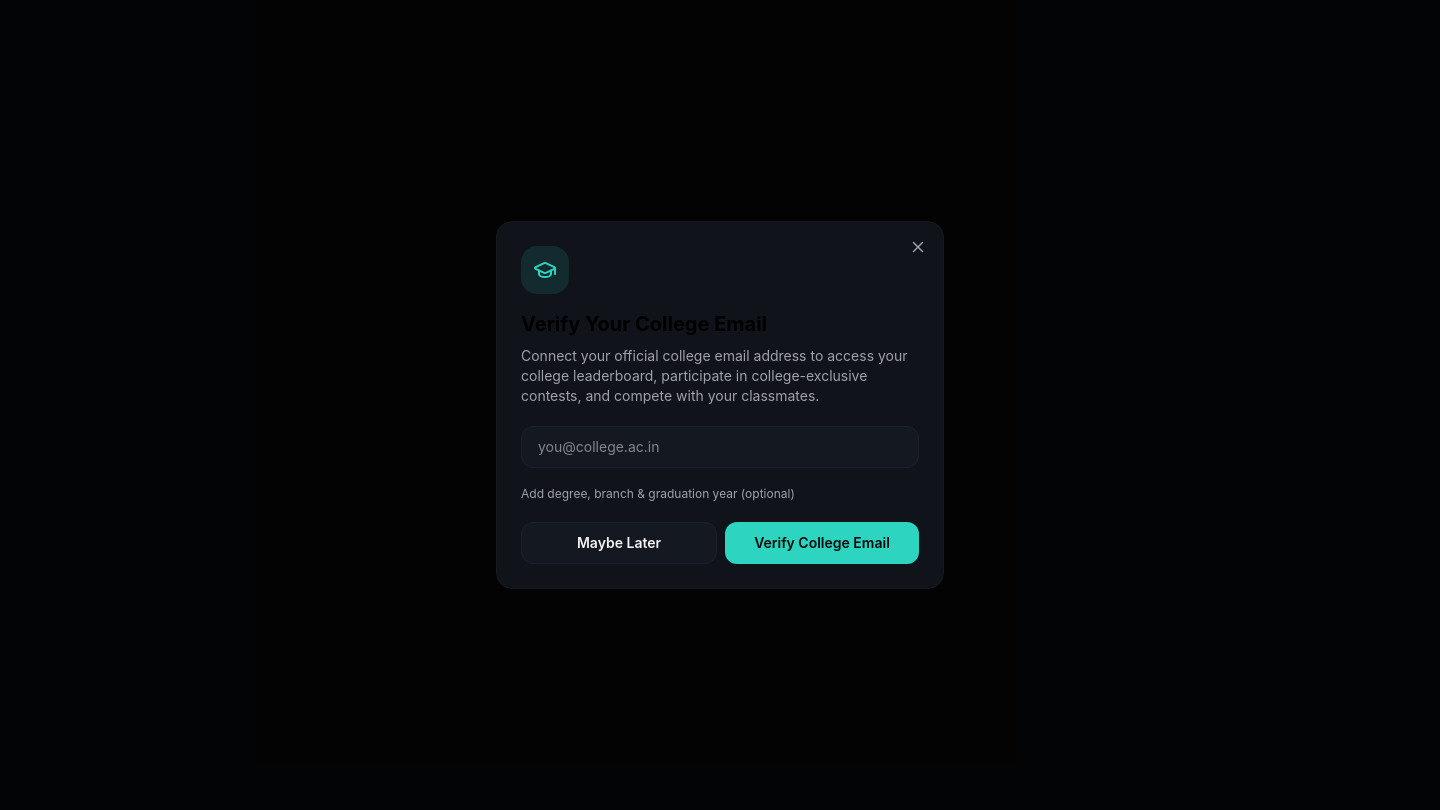
CollegeVerifyModal › goes straight to the email_sent step for a recognized domain — no toast, no dead end
Type "student@marwadiuniversity.ac.in" into the field with placeholder "you@college.ac.in".
click(720, 447); type("student@marwadiuniversity.ac.in")  # box top-left (521, 426), bottom-right (919, 468)
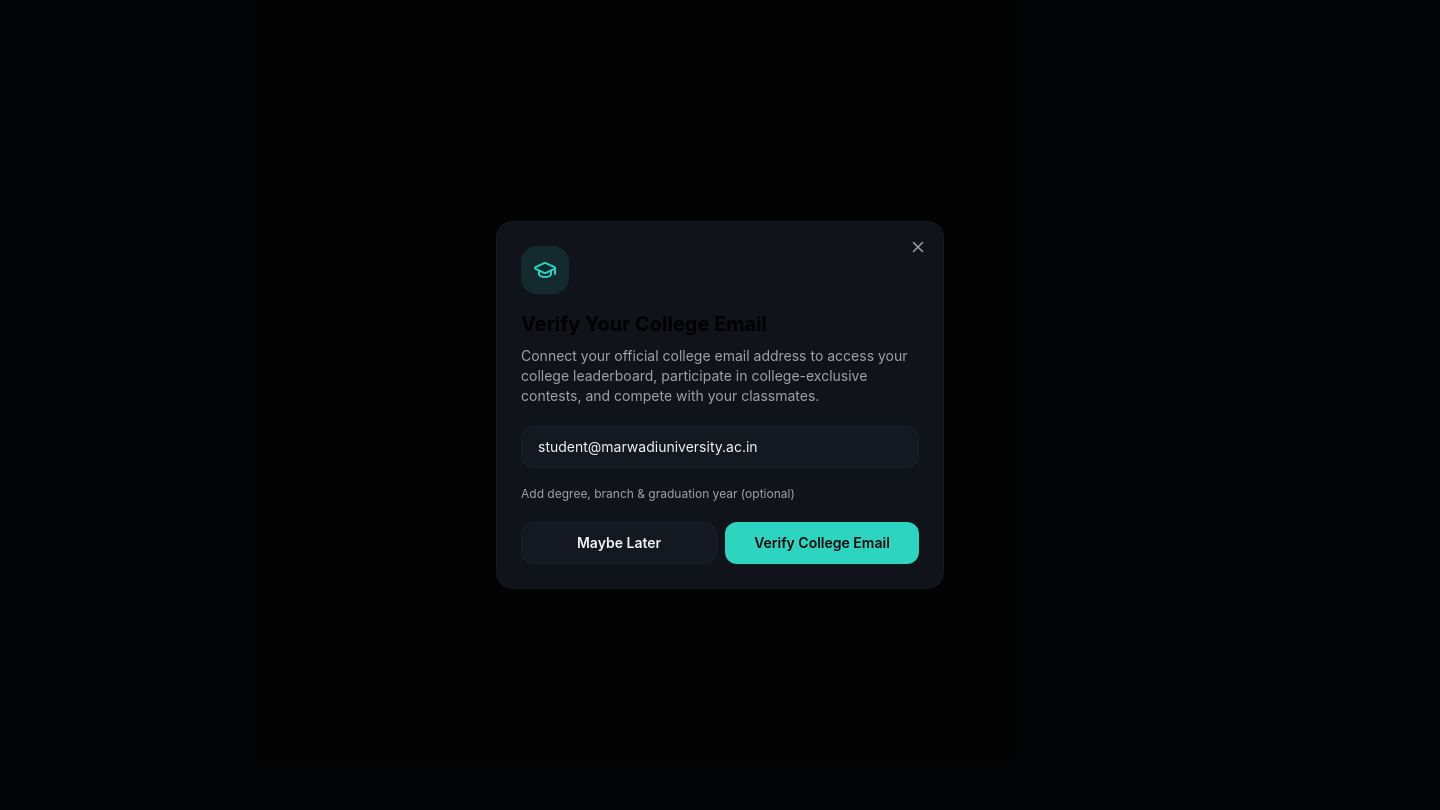
Click the button "Verify College Email".
click(822, 543)  # box top-left (725, 522), bottom-right (919, 564)
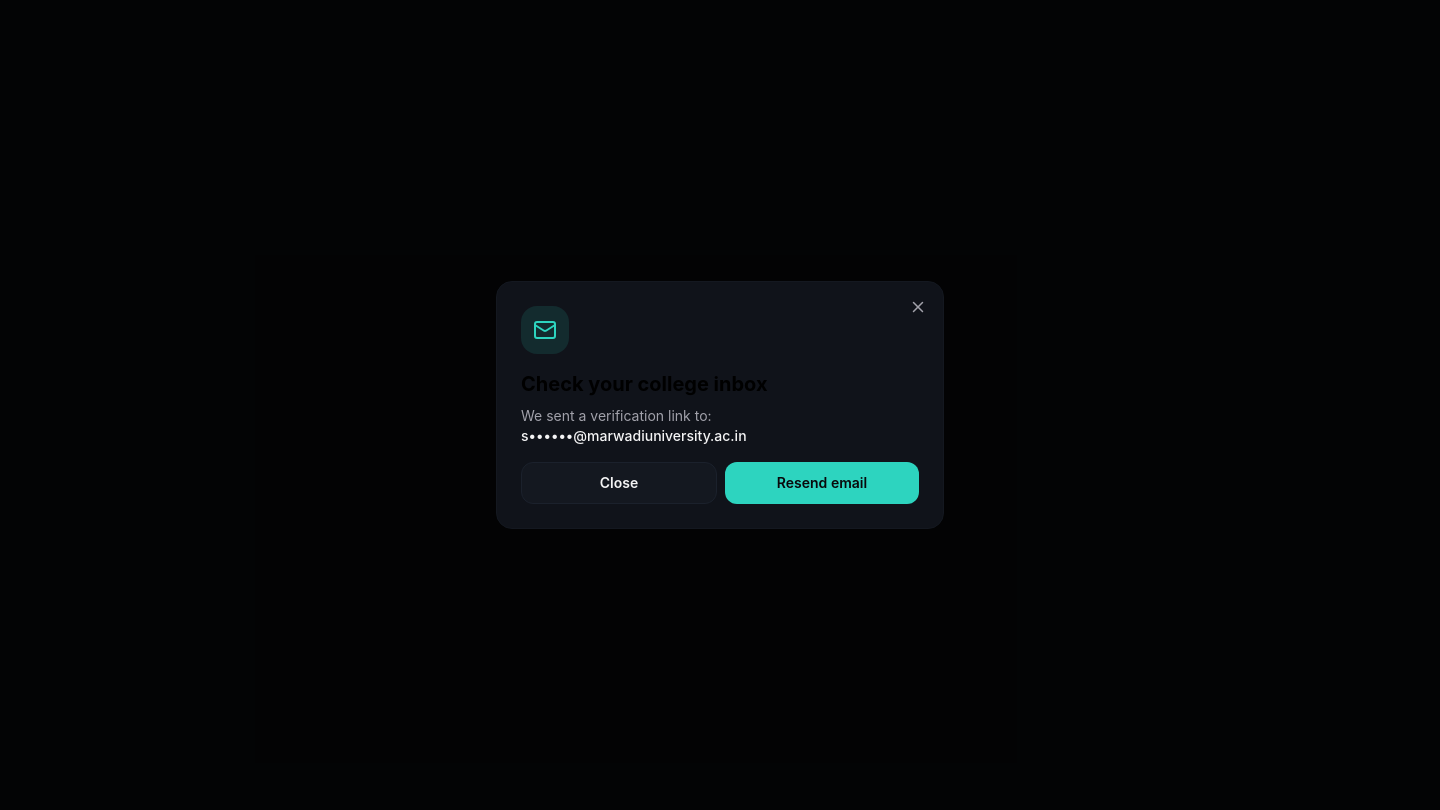
Check: the heading "Check your college inbox" is shown, box top-left (521, 372), bottom-right (768, 396)
